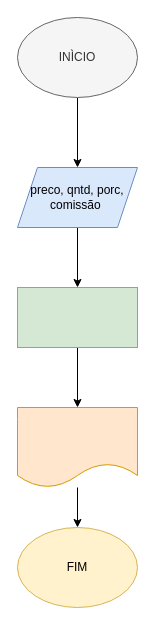
This 155x625 diagram has some shape labels left out. The shapes that lost their labels are listed below. From the top down, each one's centre as x and y in pixels, then its label:
point (77, 317): valor (preco+qntd)*porc
point (77, 447): valor
